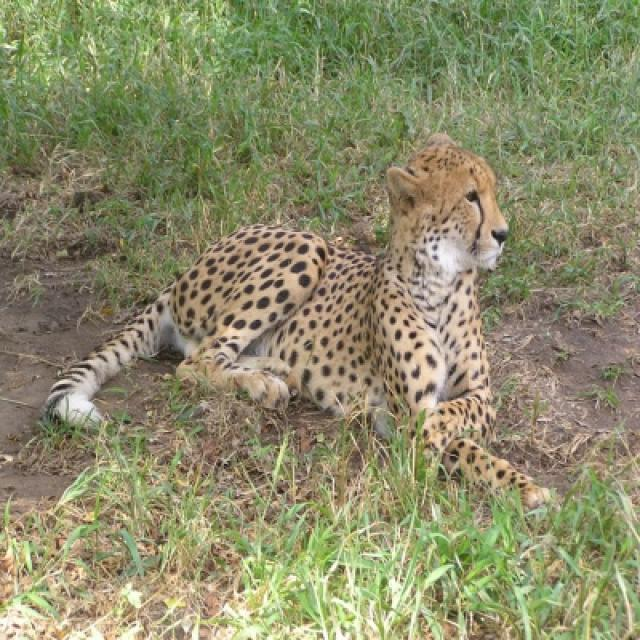Cheetah: (45, 166, 531, 488)
